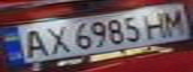5: (121, 12, 148, 43)
6: (72, 20, 93, 51)
8: (106, 16, 127, 46)
9: (87, 18, 109, 50)
A: (15, 26, 51, 59)
H: (139, 8, 175, 39)
M: (157, 7, 190, 36)
X: (39, 22, 72, 55)
